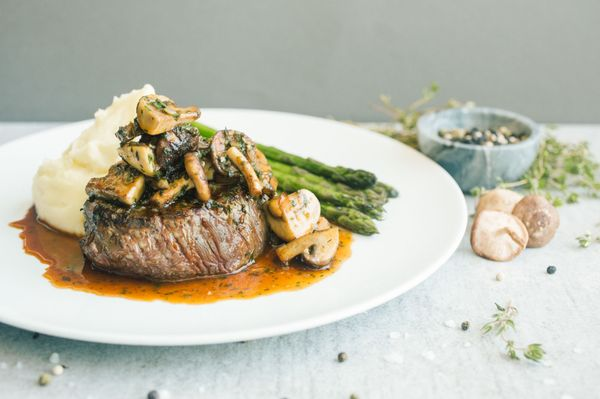sushi: (416, 105, 545, 195)
